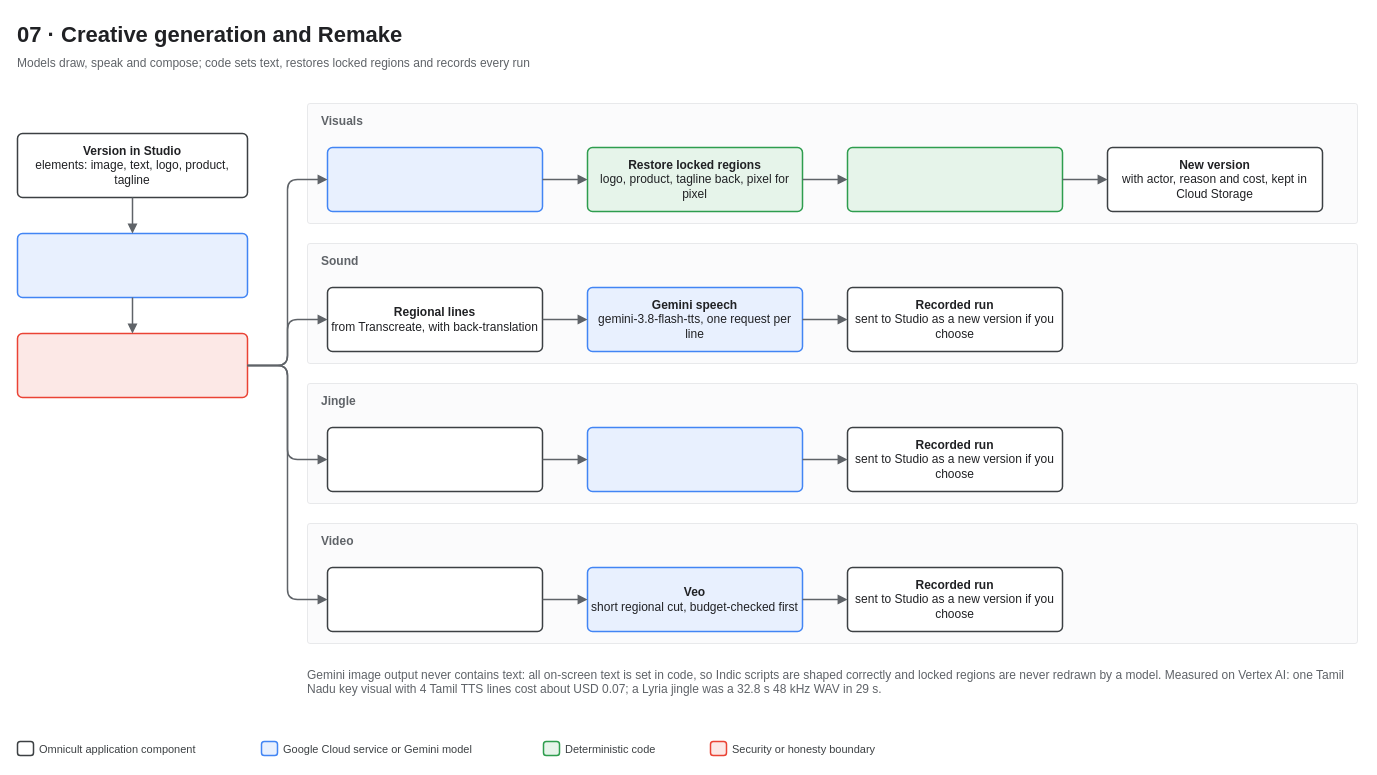
Image size: 1377x775. Some labels were removed from this diagram. The shapes that lost their labels are listed below. From the top down, each one's centre as x and y in pixels, then its label:
At pixel 434 179: "Gemini image model draws the key visual, no text in it".
At pixel 954 179: "Set Indic text in code Pillow with libraqm, Noto fonts".
At pixel 132 265: "Transcreate and Tweak Chips Gemini text; glossary and script checked in code".
At pixel 132 365: "Confirm, then budget check per run USD 0.50, per day USD 5.00".
At pixel 434 459: "Brief and region from the campaign brief".
At pixel 694 459: "Lyria (lyria-002) 30 s 48 kHz WAV, us-central1".
At pixel 434 599: "Brief and key visual the approved regional visual".
